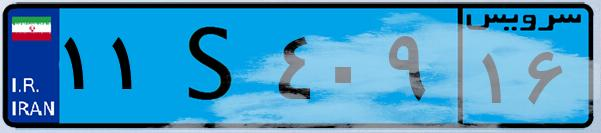0: (330, 28, 385, 110)
1: (57, 26, 110, 100), (475, 38, 525, 113), (110, 28, 158, 98)
4: (270, 28, 330, 110)
6: (525, 38, 570, 115)
9: (385, 28, 445, 110)
S: (158, 12, 270, 120)
